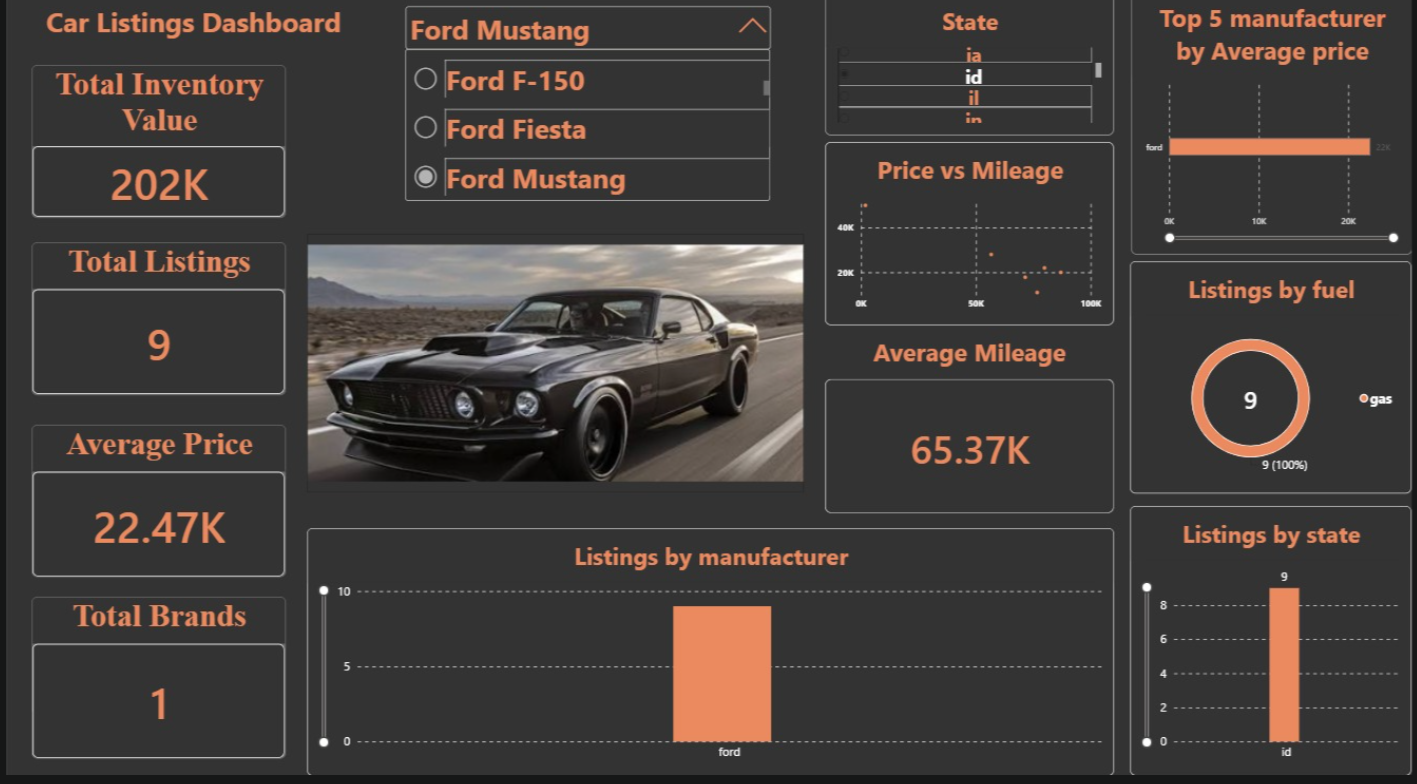

This screenshot's page, from the dashboard's own definition file:
{"tool":"powerbi","page":{"name":"Page 1","canvas":[1920,1080],"ordinal":0},"visuals":[{"type":"cardVisual","title":"Total Inventory Value","fields":{"Data":["Sum(cars_sample_80k_updated.price)"]},"box":[33.1,109.4,346.9,208.7],"z":0},{"type":"cardVisual","title":"Average Price","fields":{"Data":["Avg(cars_sample_80k_updated.price)"]},"box":[33.1,600.2,347,208.2],"z":1000},{"type":"cardVisual","title":"Total Brands","fields":{"Data":["Count(cars_sample_80k_updated.manufacturer)"]},"box":[33.1,834.8,347,221.4],"z":2000},{"type":"cardVisual","title":"Total Listings","fields":{"Data":["CountNonNull(cars_sample_80k_updated.price)"]},"box":[33.1,351.2,346.9,208.7],"z":3000},{"type":"slicer","fields":{"Values":["cars_sample_80k_updated.matched_car_name"]},"box":[538.3,24.5,508.1,132.4],"z":4000},{"type":"image","box":[408.8,339.7,677.9,352.6],"z":5000},{"type":"textbox","box":[47.5,24.5,413.1,61.9],"z":6000},{"type":"clusteredBarChart","title":"Top 5 manufacturer by Average price","fields":{"Category":["cars_sample_80k_updated.manufacturer"],"Y":["Avg(cars_sample_80k_updated.price)"]},"box":[1532.8,7.2,384.3,361.3],"z":7000},{"type":"donutChart","title":"Listings by fuel","fields":{"Category":["cars_sample_80k_updated.fuel"],"Y":["CountNonNull(cars_sample_80k_updated.price)"]},"box":[1531.4,377.1,384.3,316.6],"z":8000},{"type":"clusteredColumnChart","title":"Listings by state","fields":{"Category":["cars_sample_80k_updated.state"],"Y":["CountNonNull(cars_sample_80k_updated.price)"]},"box":[1531.4,711,384.3,368.5],"z":9000},{"type":"clusteredColumnChart","title":"Listings by manufacturer","fields":{"Category":["cars_sample_80k_updated.manufacturer"],"Y":["CountNonNull(cars_sample_80k_updated.price)"]},"box":[408.8,741.2,1101,338.2],"z":10000},{"type":"listSlicer","title":"State","fields":{"Values":["cars_sample_80k_updated.state"]},"box":[1115.4,11.5,394.4,194.3],"z":11000},{"type":"scatterChart","title":"Price vs Mileage","fields":{"Category":["cars_sample_80k_updated.model"],"X":["Avg(cars_sample_80k_updated.odometer)"],"Y":["Avg(cars_sample_80k_updated.price)"]},"box":[1115.4,214.5,394.4,250.4],"z":12000},{"type":"cardVisual","title":"Average Mileage","fields":{"Data":["Avg(cars_sample_80k_updated.odometer)"]},"box":[1115.4,477.8,394.4,243.2],"z":13000}]}

Visuals, with their boxes in screenshot pixels (x1, y1, x2, y2), scaled from the page's 1920x1080 canvas onto the 1417x784 screenshot:
"Total Inventory Value" cardVisual: locate(24, 79, 280, 231)
"Average Price" cardVisual: locate(24, 436, 281, 587)
"Total Brands" cardVisual: locate(24, 606, 281, 767)
"Total Listings" cardVisual: locate(24, 255, 280, 406)
slicer - cars_sample_80k_updated.matched_car_name: locate(397, 18, 772, 114)
image: locate(302, 247, 802, 503)
textbox: locate(35, 18, 340, 63)
"Top 5 manufacturer by Average price" clusteredBarChart: locate(1131, 5, 1415, 268)
"Listings by fuel" donutChart: locate(1130, 274, 1414, 504)
"Listings by state" clusteredColumnChart: locate(1130, 516, 1414, 783)
"Listings by manufacturer" clusteredColumnChart: locate(302, 538, 1114, 783)
"State" listSlicer: locate(823, 8, 1114, 149)
"Price vs Mileage" scatterChart: locate(823, 156, 1114, 337)
"Average Mileage" cardVisual: locate(823, 347, 1114, 523)
